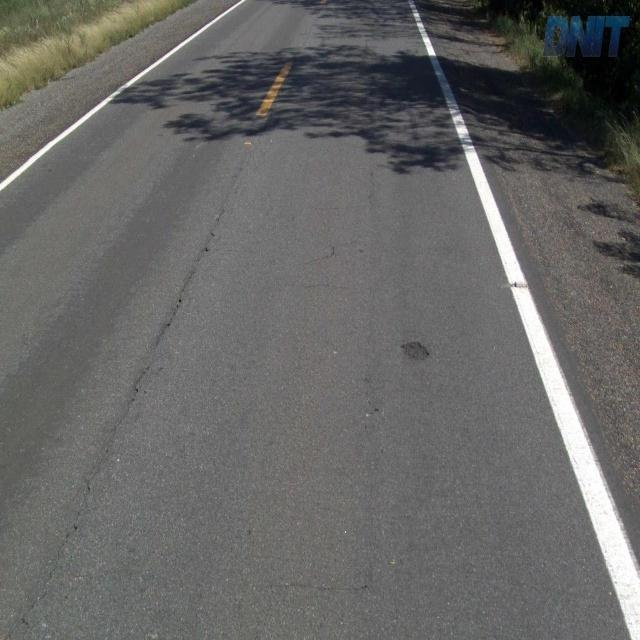pothole: (395, 335, 430, 361)
